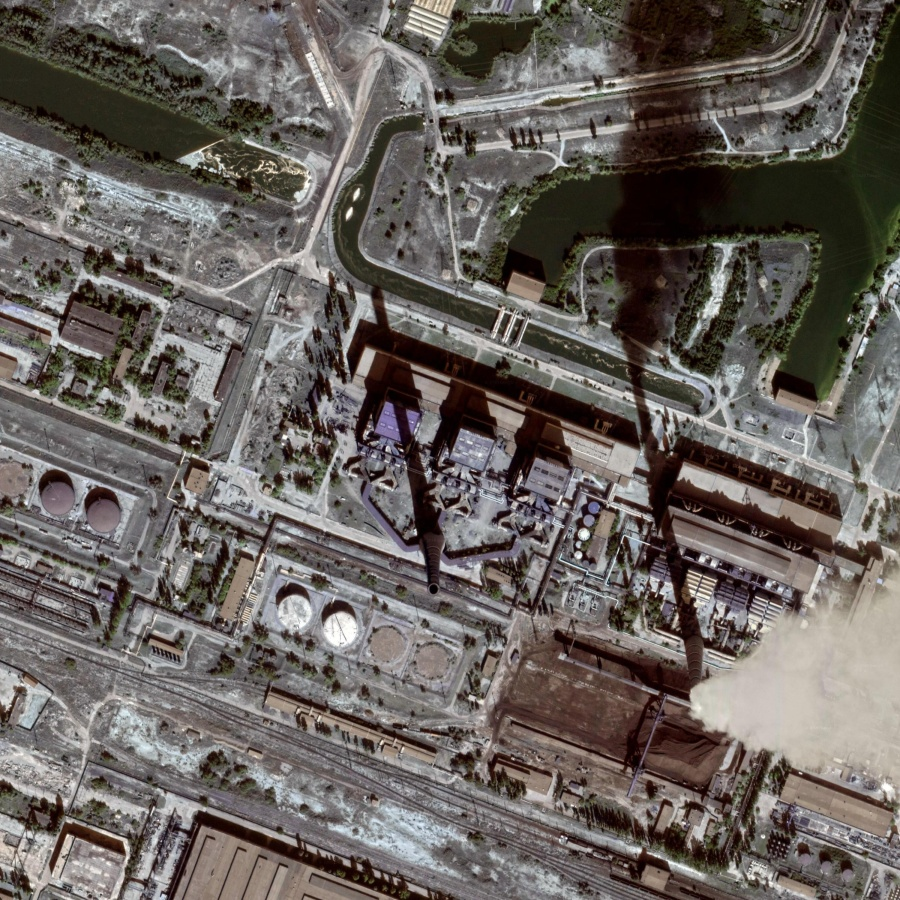PowerPlant: (269, 277, 896, 786)
